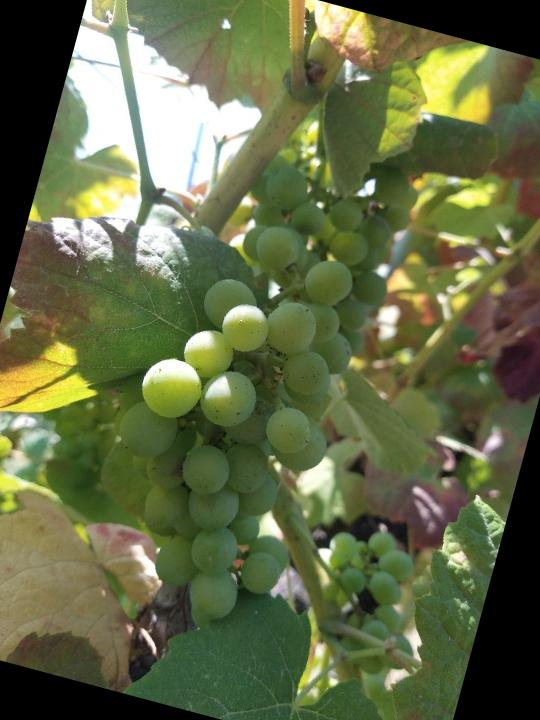grape: (63, 196, 375, 649)
